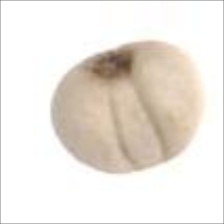L5: (107, 75, 168, 171), (81, 45, 137, 81)
L6: (48, 37, 207, 176)
